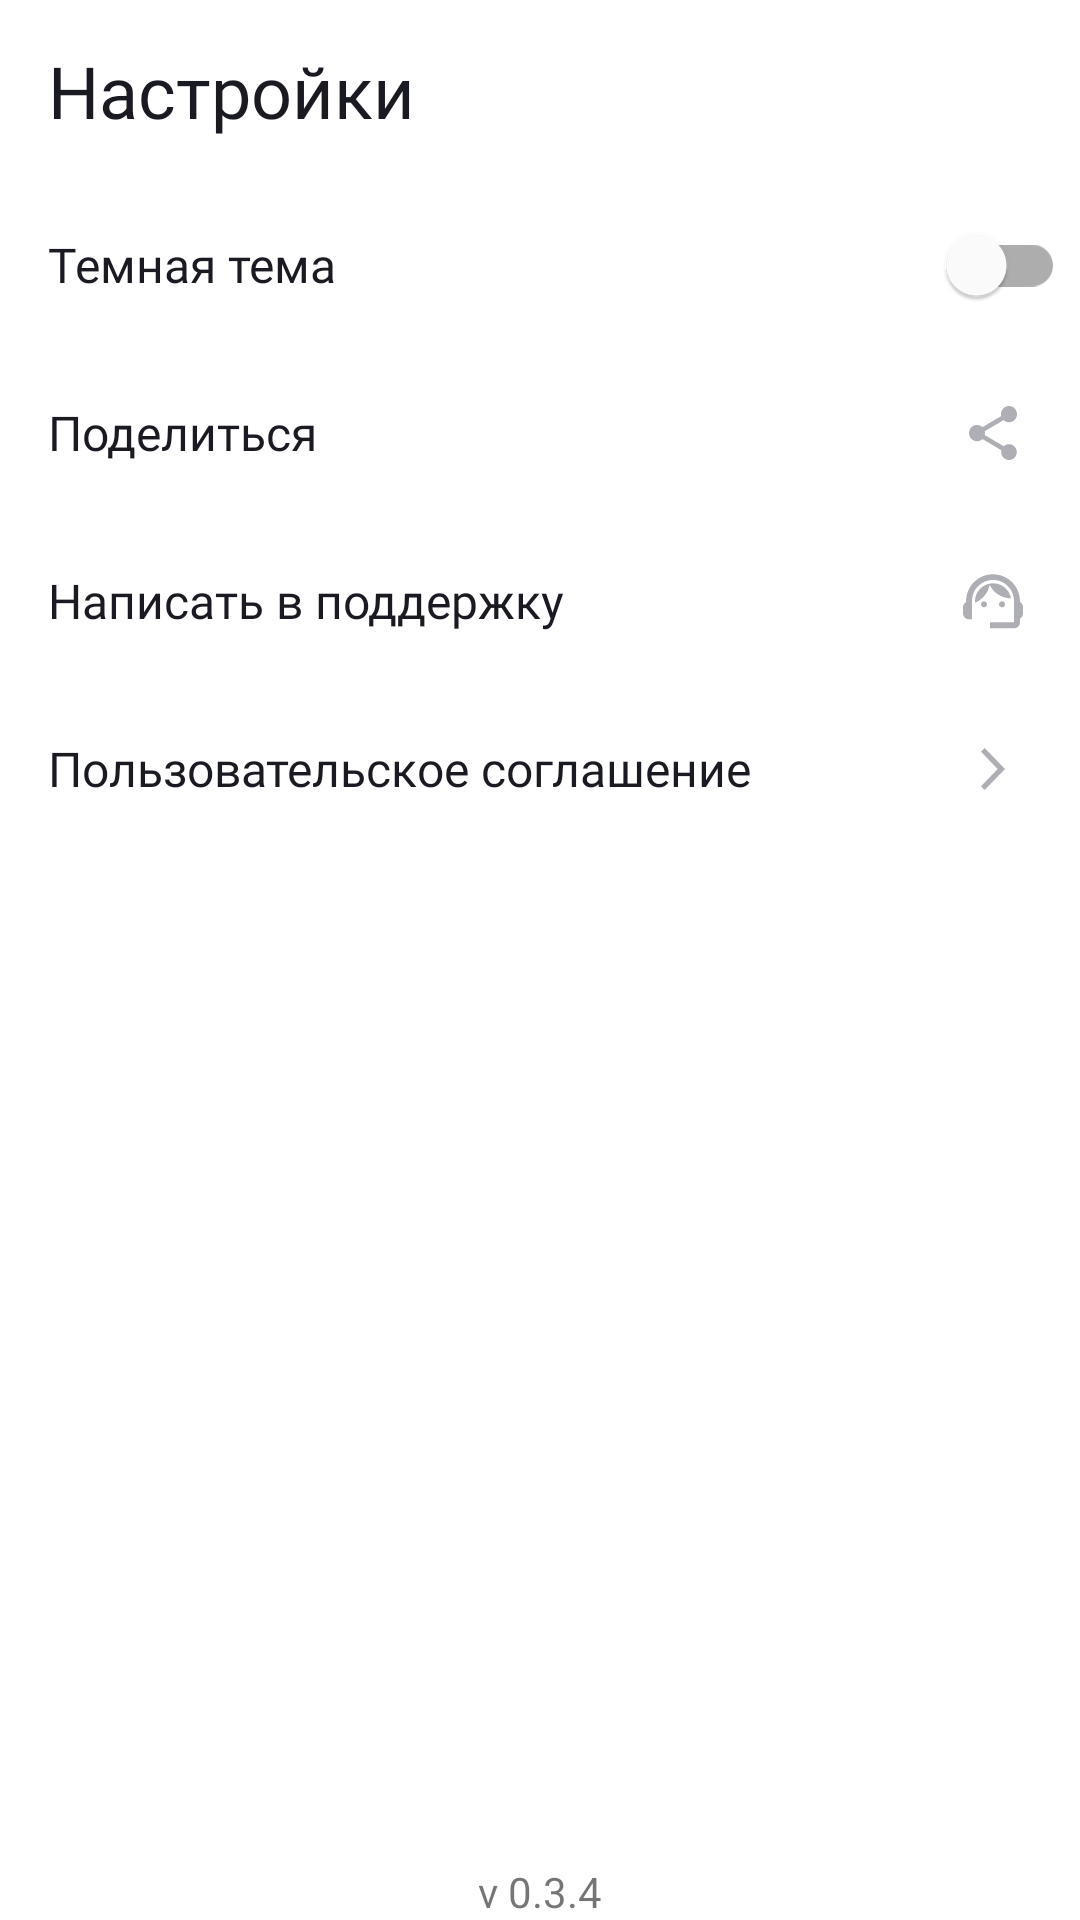

Icons on this 1080×1920 Android screen, each with the point to tap as (x,y):
Далее: (993,769)
Написать в поддержку: (993,601)
Поделиться: (993,433)
